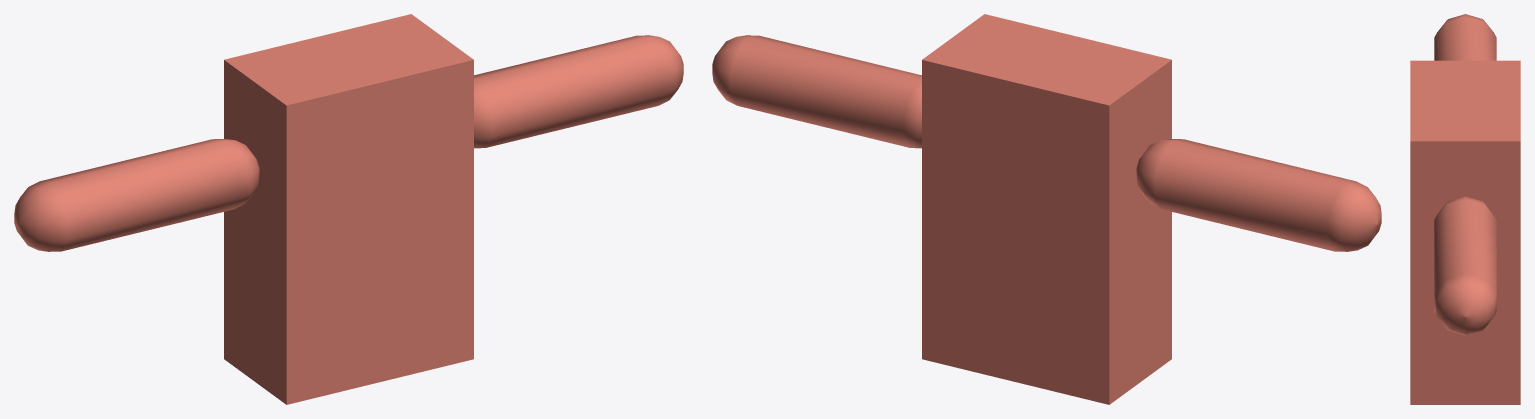
Rendered from red-jacket.glb.
The picture shows the model from 3 angles, left to right: view 1: azimuth 30°, elevation 25°; view 2: azimuth 150°, elevation 25°; view 3: azimuth 270°, elevation 25°; orthographic projection. The views are drawn at different scales.
Visible parts, largest first — view 1: red_jacket_torso, red_jacket_sleeve_L, red_jacket_sleeve_R; view 2: red_jacket_torso, red_jacket_sleeve_L, red_jacket_sleeve_R; view 3: red_jacket_torso, red_jacket_sleeve_R, red_jacket_sleeve_L.
Part boxes in pixels (<box>): red_jacket_torso: <box>224,14,473,404</box>; red_jacket_sleeve_L: <box>14,139,259,251</box>; red_jacket_sleeve_R: <box>474,35,683,148</box>; red_jacket_torso: <box>922,14,1171,404</box>; red_jacket_sleeve_L: <box>1136,139,1381,251</box>; red_jacket_sleeve_R: <box>712,35,921,148</box>; red_jacket_torso: <box>1410,60,1520,404</box>; red_jacket_sleeve_R: <box>1434,196,1496,335</box>; red_jacket_sleeve_L: <box>1434,14,1496,60</box>.
Size of the model in its own units: 1.34 by 0.58 by 0.22.
